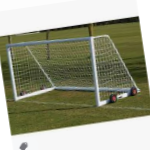goals: (5, 33, 142, 109)
